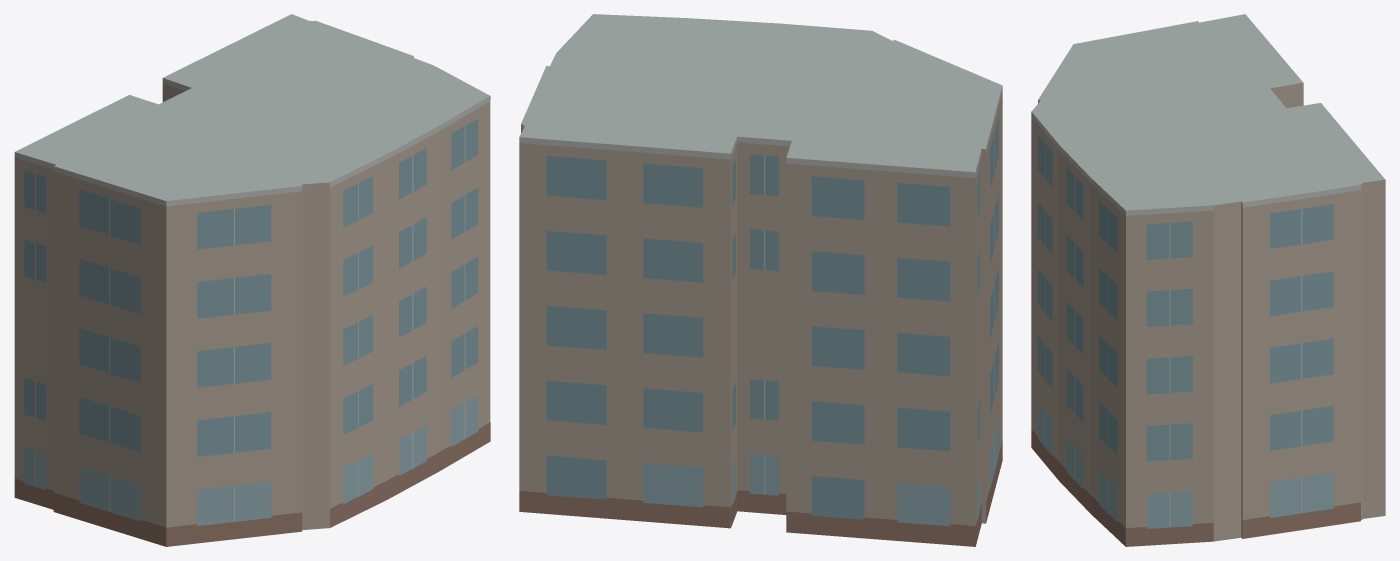
The model's file is survey-upis-33043754.glb.
3 renders of one model, left to right at view 1: azimuth 30°, elevation 25°; view 2: azimuth 150°, elevation 25°; view 3: azimuth 270°, elevation 25°, orthographic. The views are drawn at different scales.
Parts seen in each view (by area): view 1: survey-upis-33043754.tmp; view 2: survey-upis-33043754.tmp; view 3: survey-upis-33043754.tmp.
Part boxes in pixels (<box>): survey-upis-33043754.tmp: <box>14,14,490,546</box>; survey-upis-33043754.tmp: <box>519,14,1002,546</box>; survey-upis-33043754.tmp: <box>1031,14,1385,546</box>.
Bounding box in the file's own units: 19.64 × 15.65 × 14.95.
